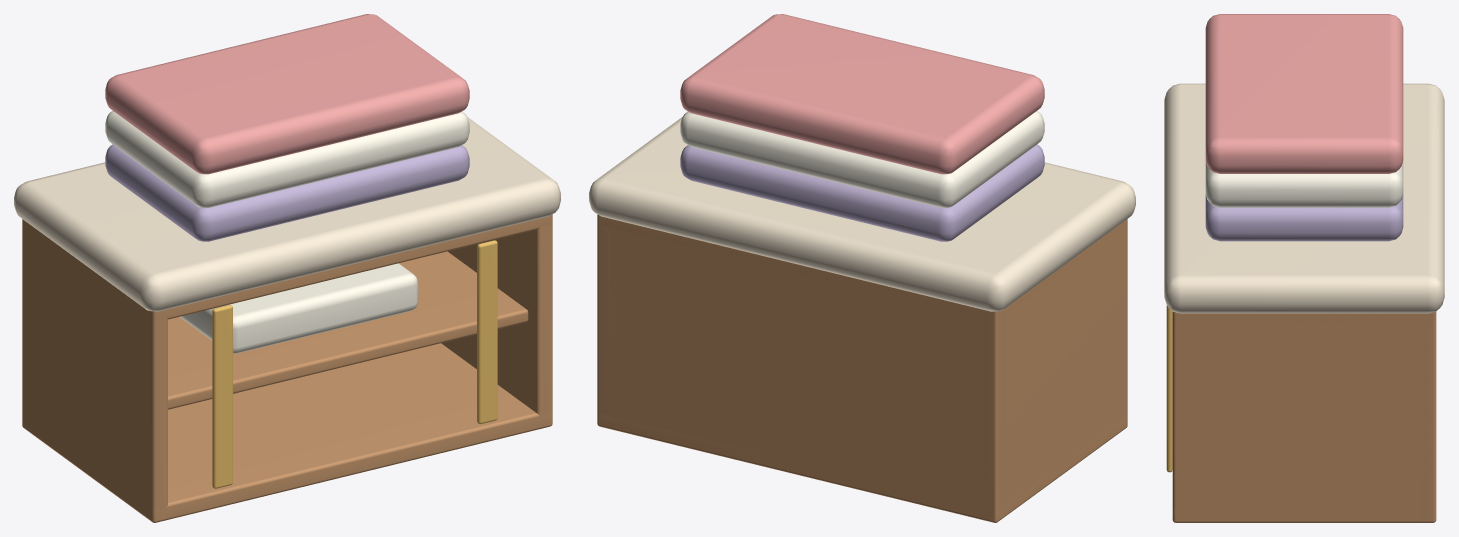
The model's file is bedroomQuiltChest.glb.
3 views of the same model, side by side, from view 1: azimuth 30°, elevation 25°; view 2: azimuth 150°, elevation 25°; view 3: azimuth 270°, elevation 25° (orthographic).
Visible parts, largest first — view 1: Chest lid, Folded quilt.002, Storage inner floor, Storage inner side, Storage interior shelf, Folded quilt, Folded quilt.001, Storage inner side.001, Stored folded linen, Storage inner floor.001, Chest strap, Chest strap.001; view 2: Storage inner back, Chest lid, Folded quilt.002, Storage inner side, Folded quilt, Folded quilt.001, Storage inner floor.001, Storage inner floor, Storage inner side.001; view 3: Storage inner side.001, Chest lid, Folded quilt.002, Folded quilt, Folded quilt.001, Storage inner back, Storage inner floor.001, Chest strap.001, Storage inner floor.
Part boxes in pixels (x1,y1,x2,y2): Chest lid: (14,117,560,311); Folded quilt.002: (105,14,469,174); Storage inner floor: (22,343,552,522); Storage inner side: (22,219,167,522); Storage interior shelf: (168,251,528,409); Folded quilt: (105,144,469,241); Folded quilt.001: (105,111,469,207); Storage inner side.001: (441,223,552,428); Stored folded linen: (180,263,418,353); Storage inner floor.001: (22,214,552,320); Chest strap: (212,305,232,488); Chest strap.001: (477,240,497,424); Storage inner back: (597,223,1004,522); Chest lid: (589,117,1135,311); Folded quilt.002: (680,14,1044,174); Storage inner side: (983,219,1127,521); Folded quilt: (680,144,1044,241); Folded quilt.001: (680,111,1044,207); Storage inner floor.001: (597,214,1127,320); Storage inner floor: (597,413,1127,522); Storage inner side.001: (597,215,609,428); Storage inner side.001: (1172,312,1436,522); Chest lid: (1164,83,1444,313); Folded quilt.002: (1205,14,1403,173); Folded quilt: (1205,194,1403,241); Folded quilt.001: (1205,161,1403,207); Storage inner back: (1421,312,1436,522); Storage inner floor.001: (1172,311,1435,321); Chest strap.001: (1166,305,1172,472); Storage inner floor: (1172,509,1435,522).
Bounding box in the file's own units: 1.17 × 0.9375 × 0.68.
